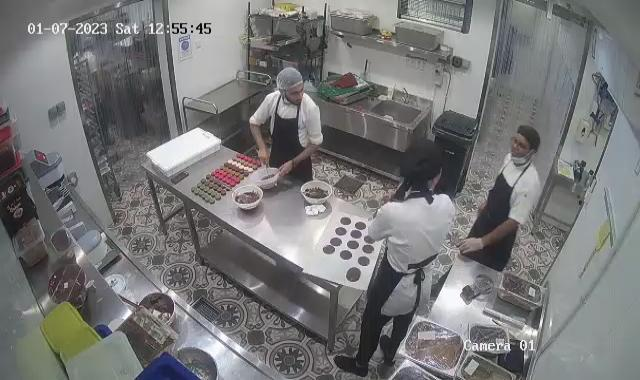hairnet: (276, 68, 305, 93)
no_hairnet: (400, 140, 443, 184), (516, 125, 541, 156)
